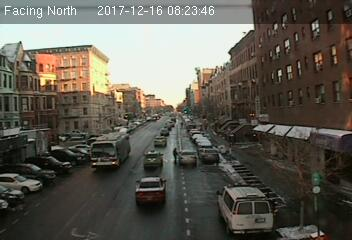bus: (87, 132, 133, 168)
car: (134, 177, 165, 204), (142, 150, 164, 168), (178, 149, 197, 166), (200, 147, 219, 162), (154, 135, 166, 146)
police: (216, 181, 275, 234)
